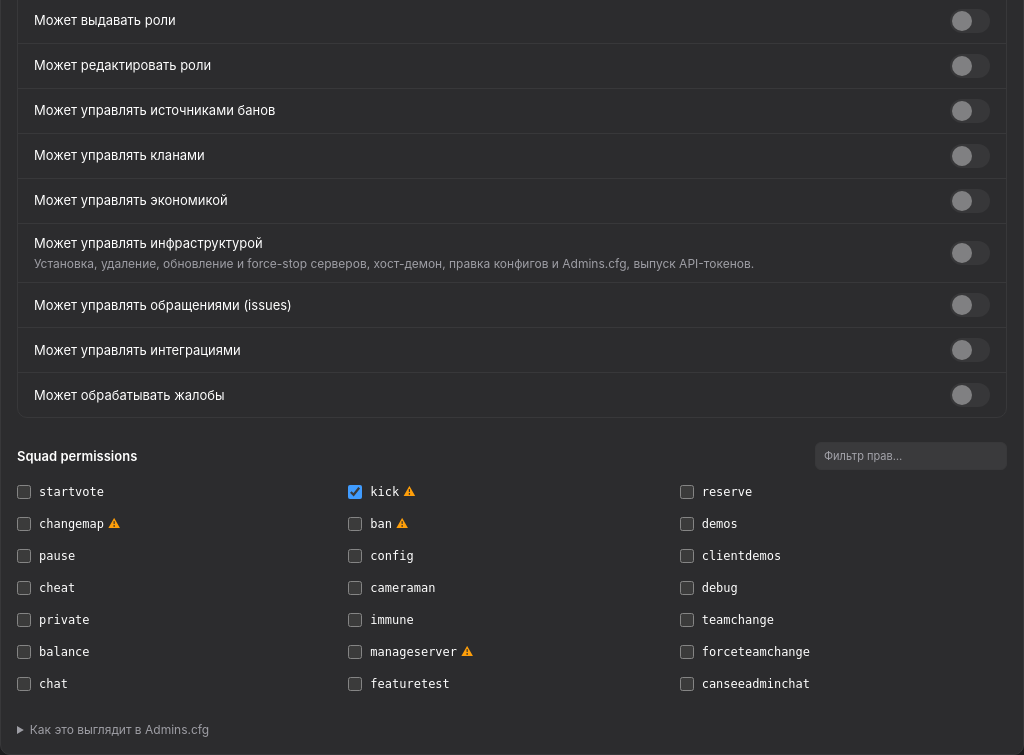
Test: realtime permission filter (ROLE-6) › narrows the permission checkboxes to those matching the filter text
(page scrolled)
Expected: the text "kick" is shown, [370,484,399,500]
Expected: the text "ban" is shown, [370,516,392,532]
Type "kick" into the search field labelled "Фильтр прав".
click(911, 456); type("kick")  # box [815,442,1007,470]
(page scrolled)
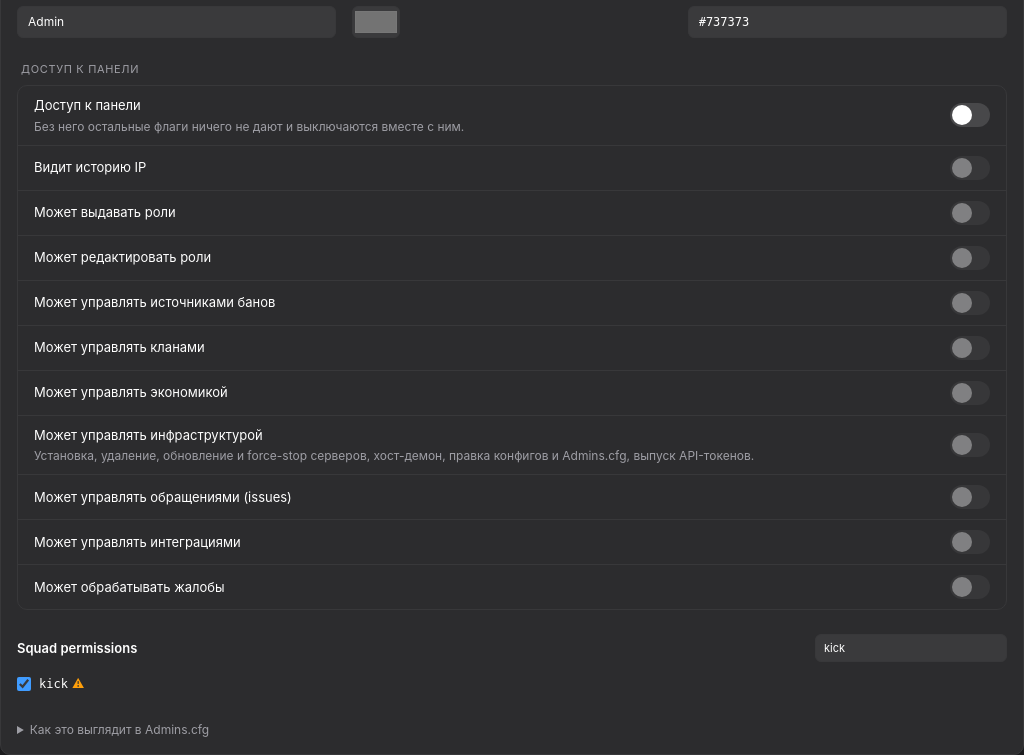
Expected: the text "kick" is shown, [39,676,68,692]
Expected: the text "ban" is gone
Expected: the text "cameraman" is gone
